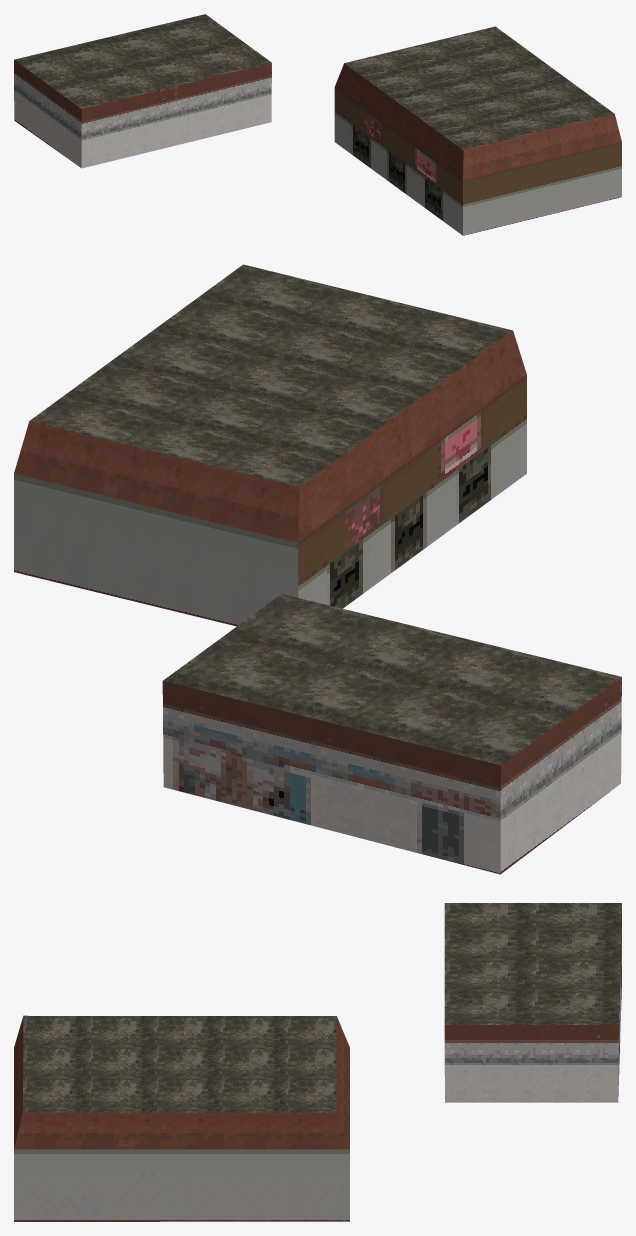
The model's file is loddpess1_las.obj.
The picture shows the model from 3 angles, top to bottom: view 1: azimuth 30°, elevation 25°; view 2: azimuth 150°, elevation 25°; view 3: azimuth 270°, elevation 25°; orthographic projection. The views are drawn at different scales.
Visible parts, largest first — view 1: LODdPESS1_LAS; view 2: LODdPESS1_LAS; view 3: LODdPESS1_LAS.
Boxes of the visible parts, x1,y1,x2,y2 form: LODdPESS1_LAS: (14, 14, 621, 235); LODdPESS1_LAS: (14, 264, 621, 874); LODdPESS1_LAS: (14, 903, 621, 1221).
Size of the model in its own units: 30.42 by 6.42 by 32.47.
4 materials, 4 textured.
